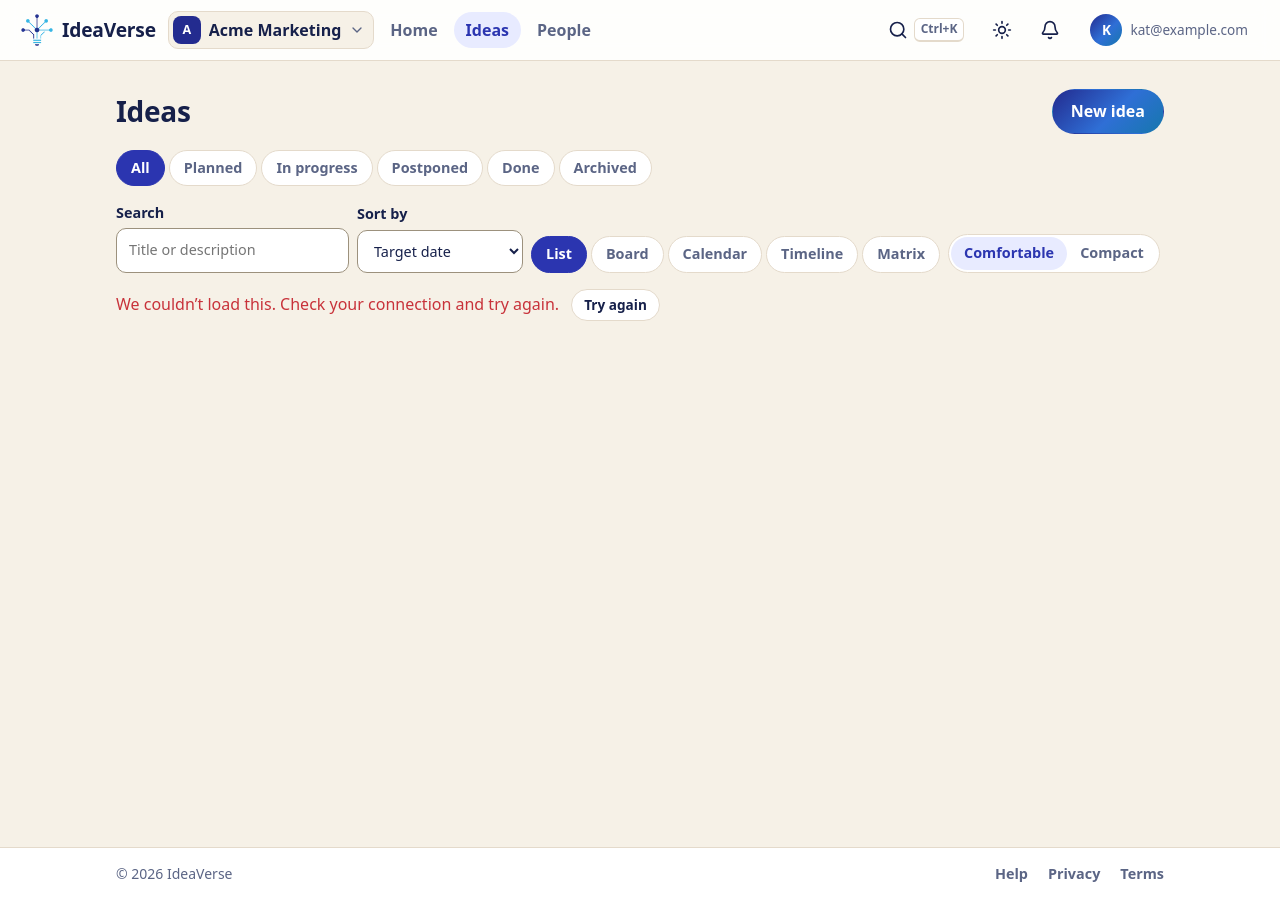
Test: IdeasPage › explains a failed load in plain words and loads again on Try again
Expected: the message shows "We couldn’t load this. Check your connection and try again.", [116,293,559,315]
Expected: the message does not show "Server error", [116,289,660,321]
Step 1. Click the button "Try again" → {"x": 616, "y": 305}, box [571,289,660,321]
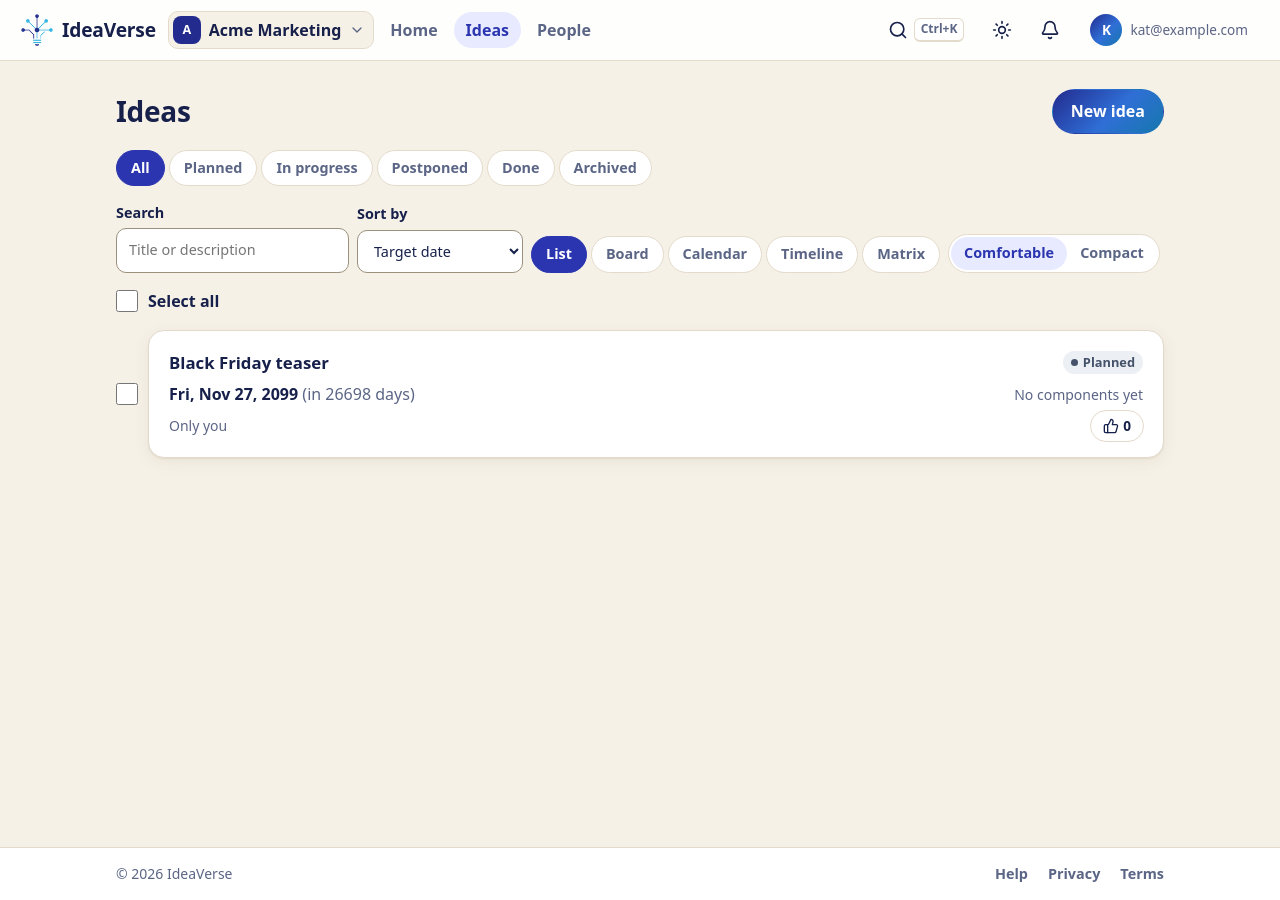
Result: the link "Black Friday teaser" is shown at [169,351,329,374]
Result: the message "We couldn’t load this. Check your connection and try again. Try again" is gone
